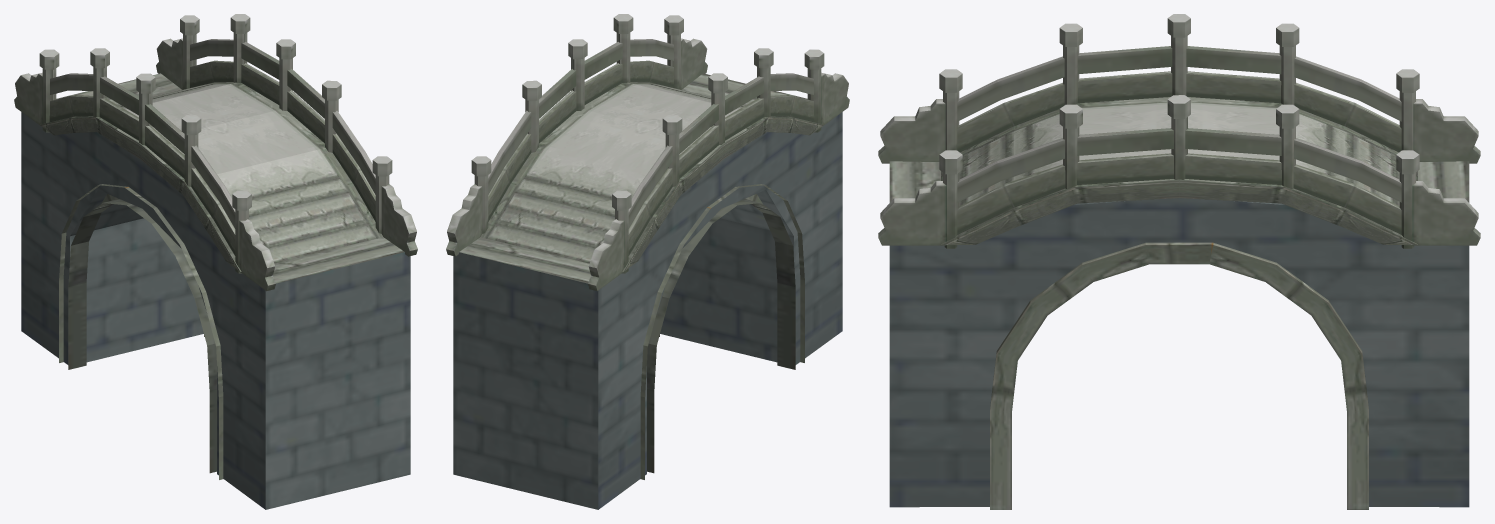
File: jm_qiao01_001.FBX
The picture shows the model from 3 angles, left to right: view 1: azimuth 30°, elevation 25°; view 2: azimuth 150°, elevation 25°; view 3: azimuth 270°, elevation 25°; orthographic projection. The views are drawn at different scales.
Visible parts, largest first — view 1: jm_qiaoi01_001; view 2: jm_qiaoi01_001; view 3: jm_qiaoi01_001.
Part boxes in pixels (x1=…): jm_qiaoi01_001: x1=14, y1=14, x2=417, y2=509; jm_qiaoi01_001: x1=446, y1=14, x2=849, y2=509; jm_qiaoi01_001: x1=878, y1=14, x2=1480, y2=509.
Bounding box in the file's own units: 1.12 × 2.36 × 3.17.
